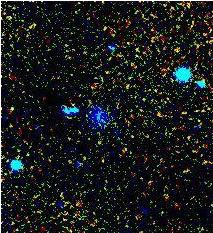star: (0, 93, 25, 123)
